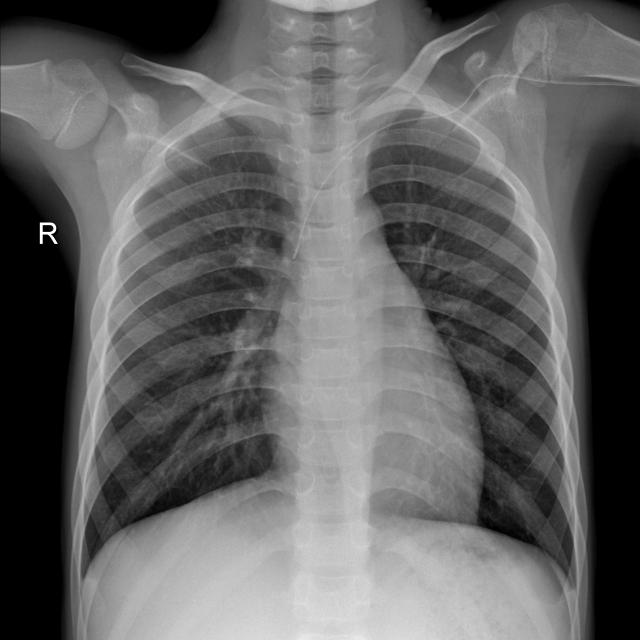no-pneumonia: (76, 114, 295, 575), (370, 112, 584, 583)
